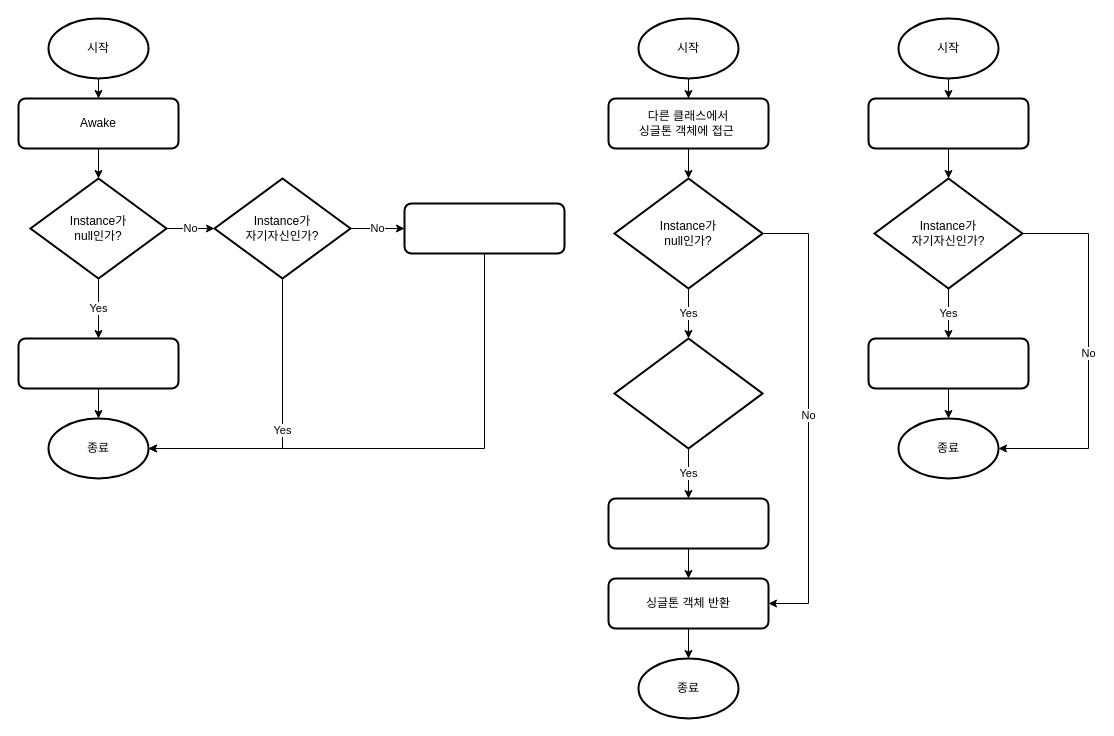
Image size: 1114x736. Some labels were removed from this diagram. The box of each missing label's shape, as (x1, y1, x2, y2) in pixels:
Instance에 null 대입: (867, 337, 1029, 389)
Instance에 자기자신 할당: (17, 337, 179, 389)
OnDestroy: (867, 97, 1029, 149)
씬에 싱글톤 객체가 존재하는가?: (613, 337, 763, 449)
씬에서 싱글톤 객체를 찾아 Instance에 할당: (607, 497, 769, 549)
파괴: (403, 202, 565, 254)
